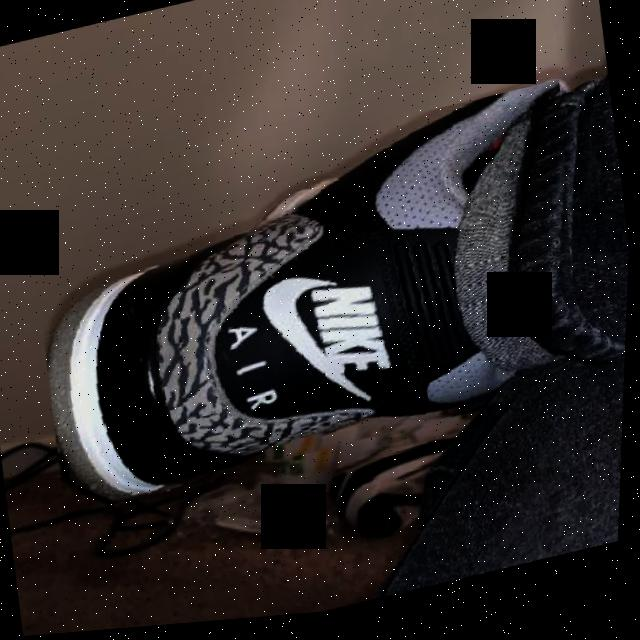shoe: (20, 86, 611, 522)
